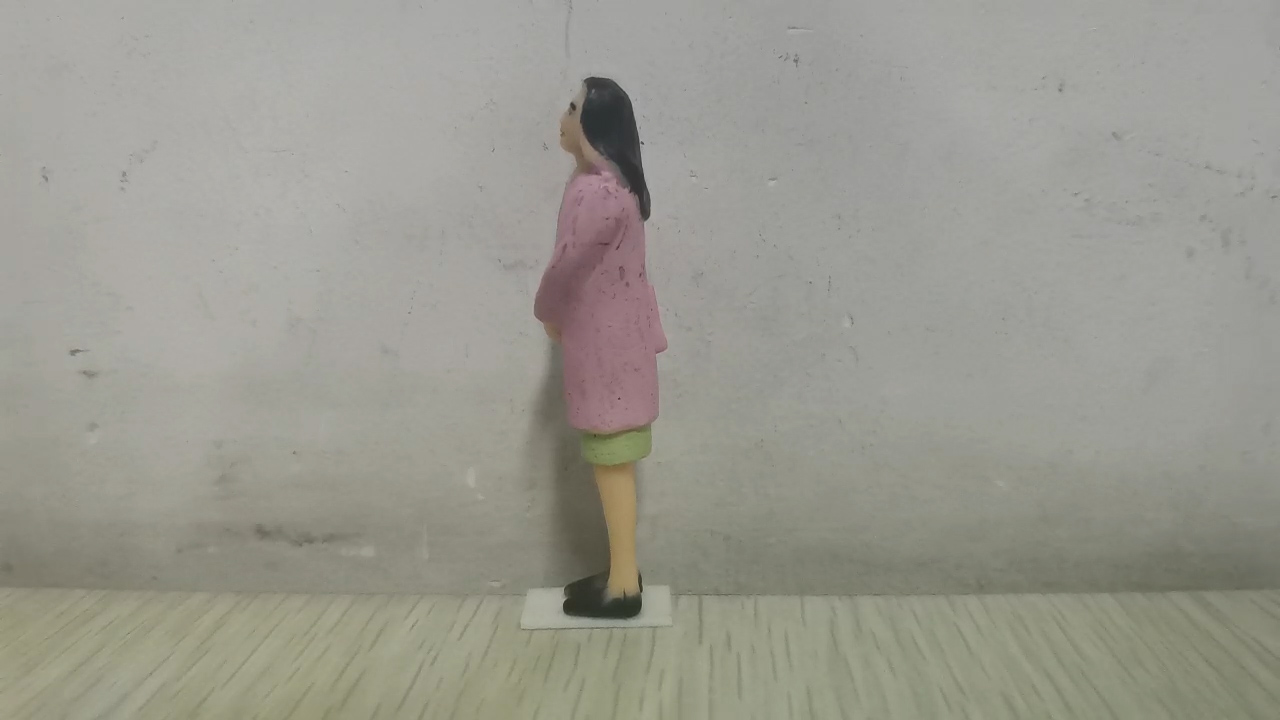person: (530, 73, 673, 620)
